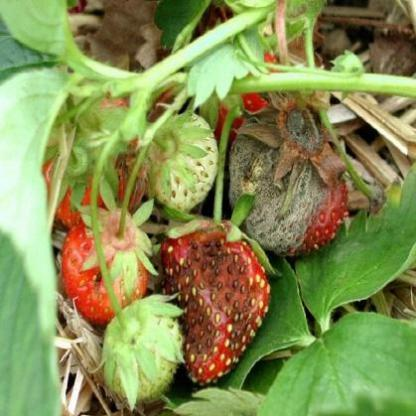Strawberry_Anthracnose_Fruit_Rot: (158, 223, 272, 384), (229, 107, 346, 256)
